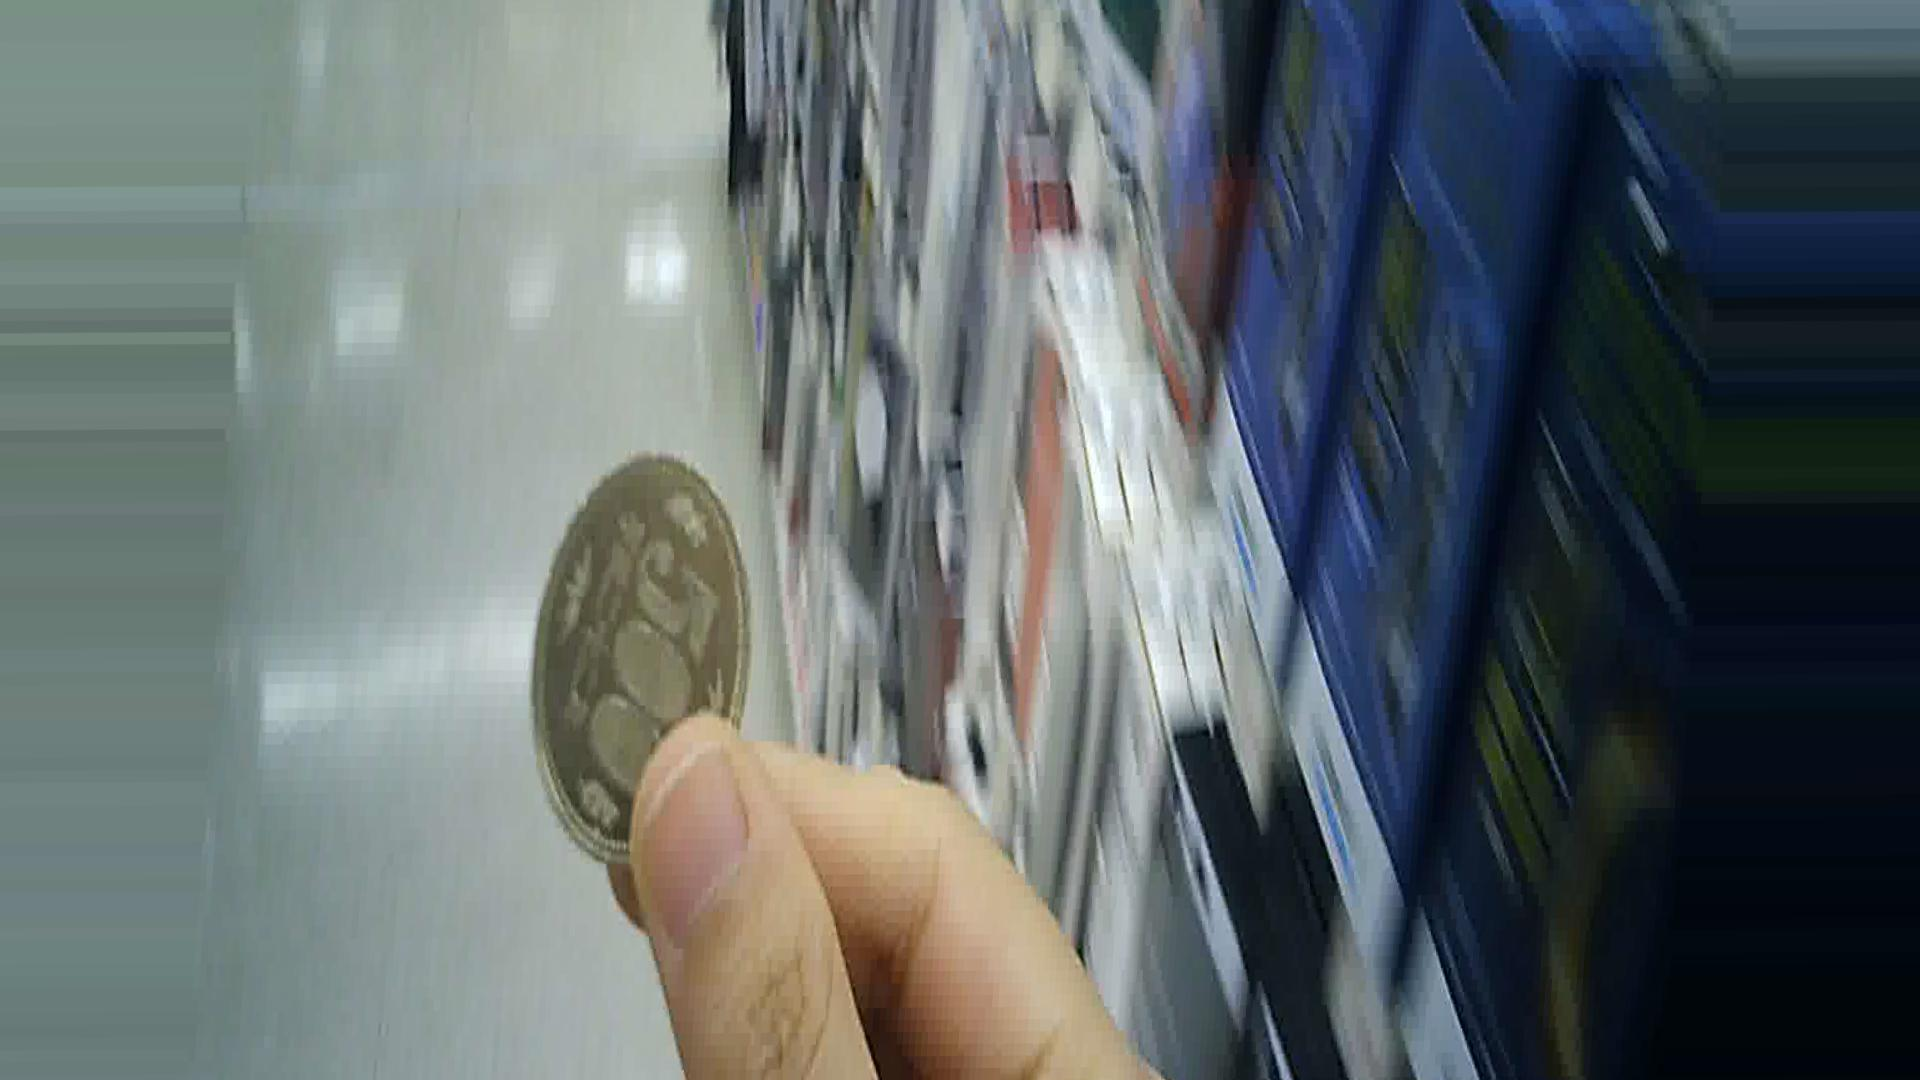500 Yen: (512, 442, 750, 841)
